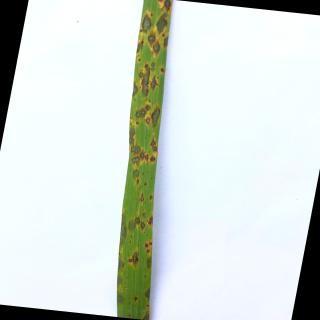Blast: (129, 119, 142, 157), (153, 13, 169, 35), (140, 63, 150, 98), (150, 103, 162, 131), (126, 250, 142, 268), (140, 12, 152, 33), (146, 28, 156, 50), (130, 168, 140, 185), (135, 106, 147, 120), (150, 75, 159, 93), (152, 41, 161, 58), (136, 39, 146, 53), (132, 80, 139, 100), (160, 0, 172, 11), (130, 155, 141, 167), (128, 220, 136, 233), (138, 149, 145, 163), (161, 36, 168, 49), (150, 137, 157, 149), (147, 213, 153, 227), (149, 61, 157, 71), (138, 222, 146, 232), (144, 116, 152, 125), (144, 102, 152, 111), (134, 214, 140, 226), (143, 153, 149, 164), (149, 156, 157, 163), (139, 193, 144, 203), (159, 67, 165, 75), (133, 294, 139, 302), (145, 248, 151, 255), (149, 192, 154, 200), (144, 242, 150, 248), (152, 146, 158, 152), (137, 56, 141, 64), (142, 212, 147, 218), (147, 240, 152, 246), (135, 121, 140, 126), (144, 304, 150, 308)
